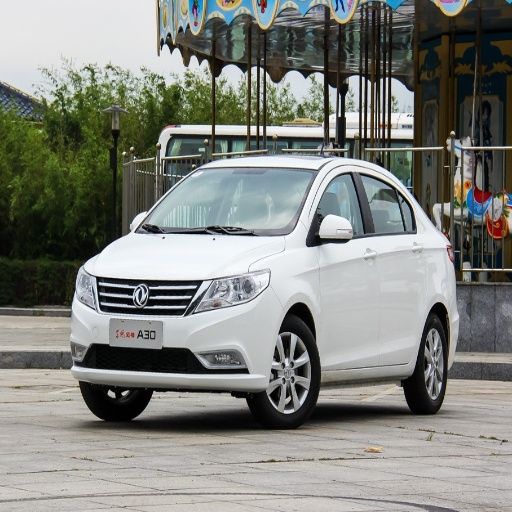back_left_door: (356, 167, 430, 363)
front_bumper: (71, 274, 284, 393)
front_glass: (135, 168, 317, 235)
front_left_door: (309, 165, 379, 368)
